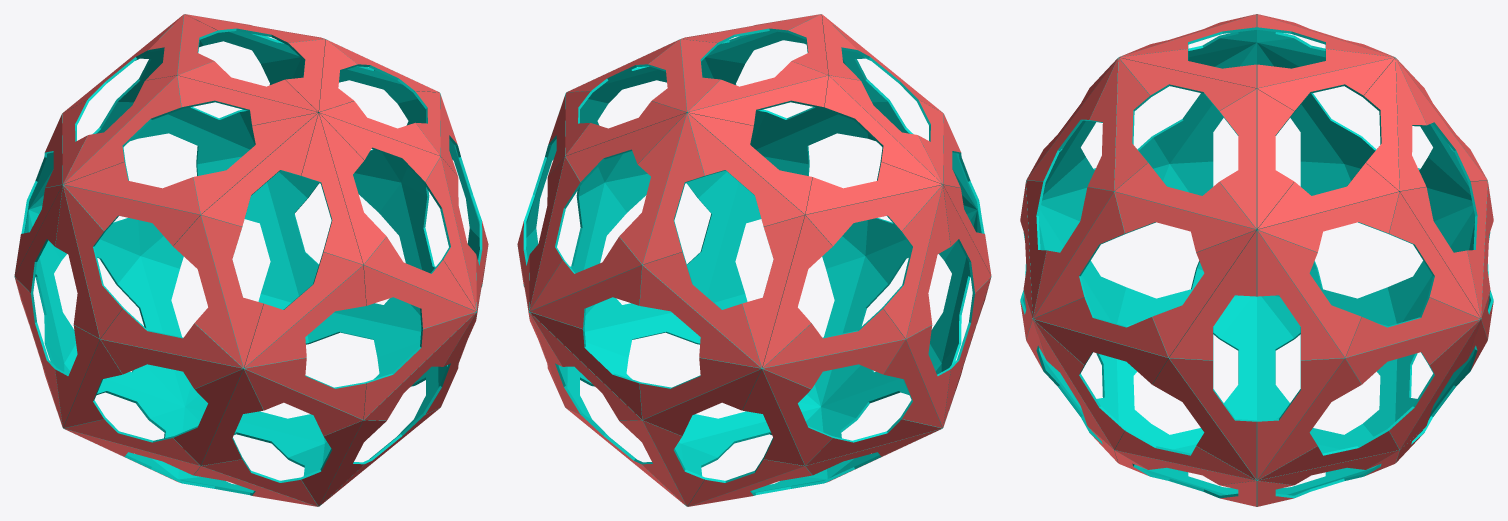
Rendered from DisdyakisTriacontahedronS.glb.
3 views of the same model, side by side, from view 1: azimuth 30°, elevation 25°; view 2: azimuth 150°, elevation 25°; view 3: azimuth 270°, elevation 25° (orthographic). The views are drawn at different scales.
Parts seen in each view (by area): view 1: Mesh_0025_1, Mesh_0025; view 2: Mesh_0025_1, Mesh_0025; view 3: Mesh_0025_1, Mesh_0025.
Boxes of the visible parts, bbox=[...] form: Mesh_0025_1: bbox=[14, 14, 488, 506]; Mesh_0025: bbox=[14, 14, 482, 506]; Mesh_0025_1: bbox=[517, 14, 991, 506]; Mesh_0025: bbox=[523, 14, 991, 506]; Mesh_0025_1: bbox=[1020, 14, 1493, 506]; Mesh_0025: bbox=[1020, 14, 1493, 506].
Bounding box in the file's own units: 8.94 × 8.94 × 8.94.
